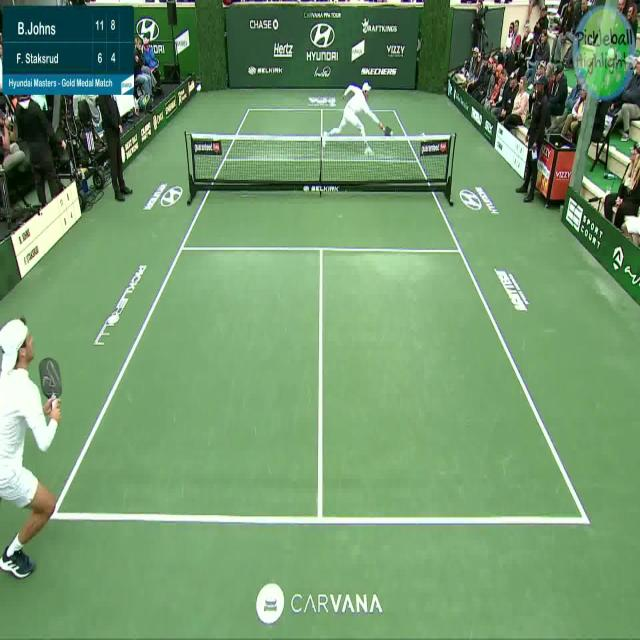ball: (389, 128, 395, 137)
